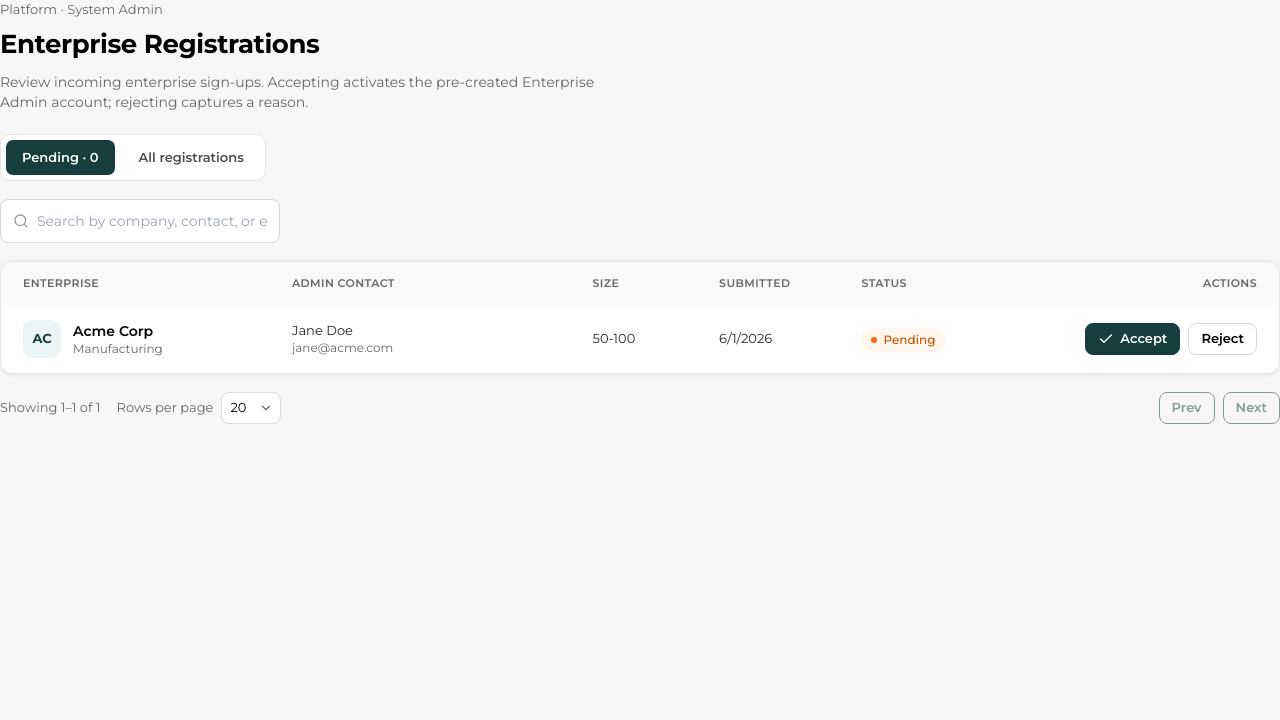
Scenario: Reject requires a reason before submitting
The width and height of the screenshot is (1280, 720).
Expected: the text "Acme Corp" is shown, [73,320,163,340]
What coordinates should you click on to do the following:
click the button "Reject"
I would click on:
 (1223, 338)
Its box is [1188,322,1257,354].
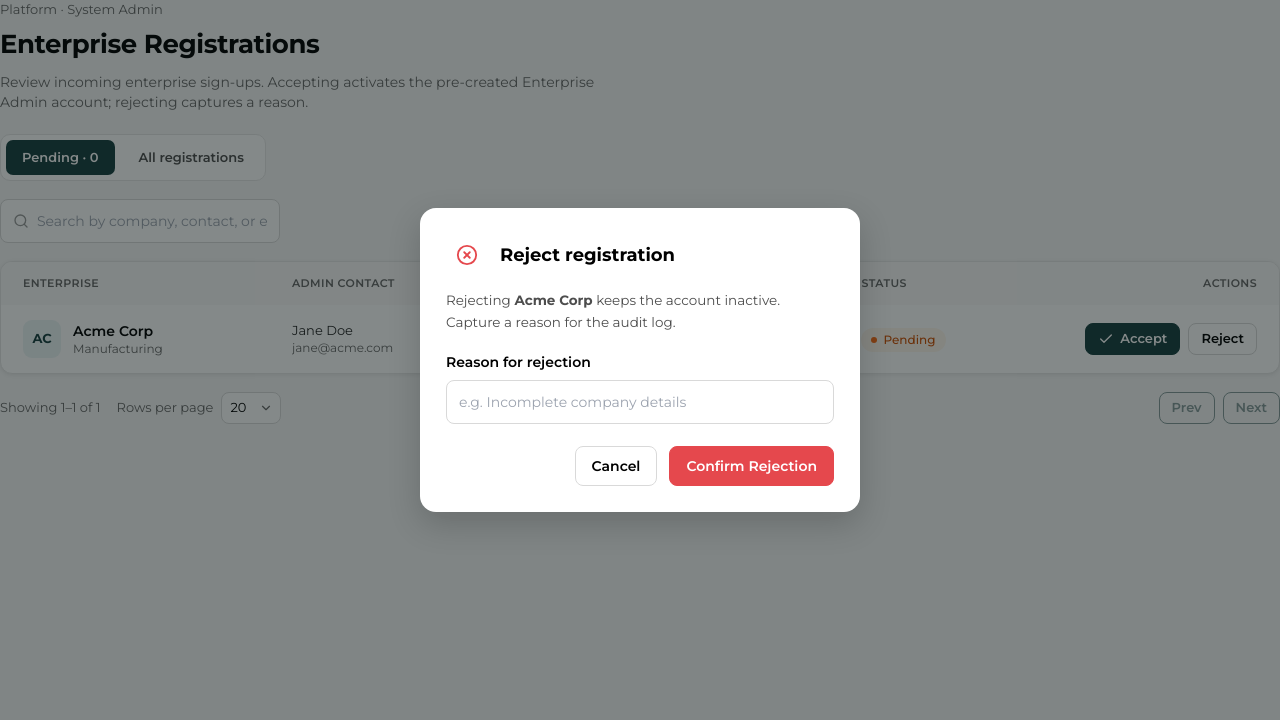
What coordinates should you click on to do the following:
click the button "Confirm Rejection"
I would click on:
 (752, 466)
Its box is [669,446,834,486].
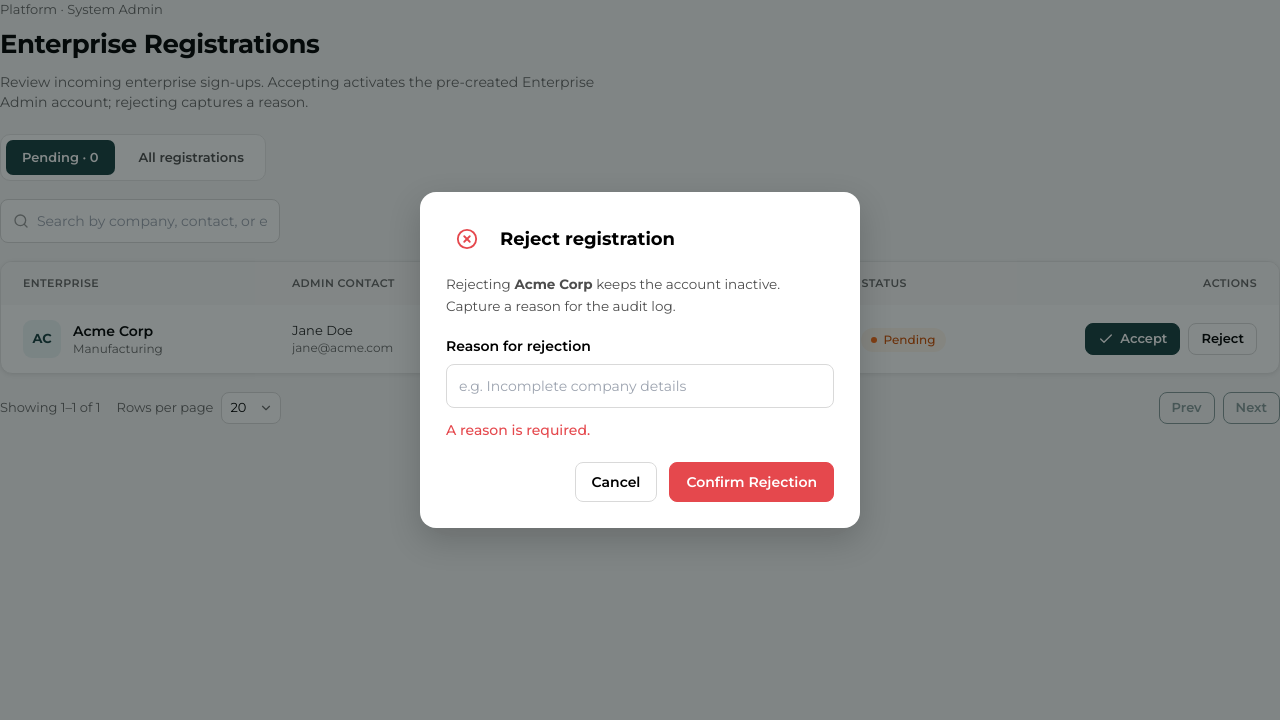
Result: the text "A reason is required." is shown at [446,421,590,439]
